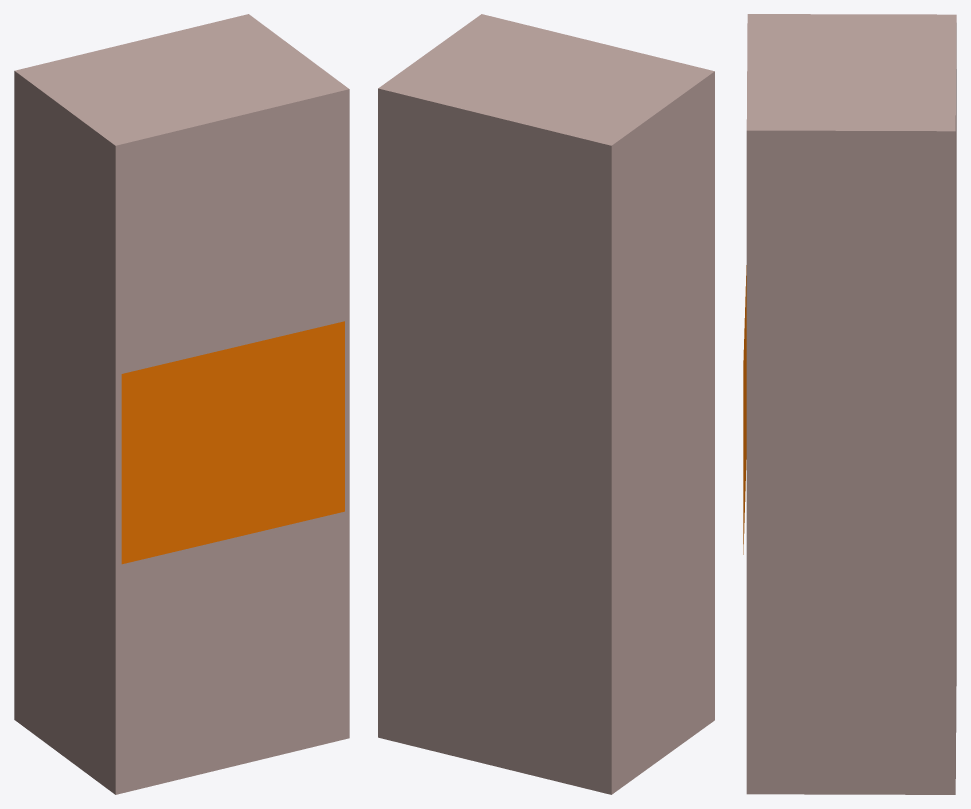
Rendered from shop_012.glb.
3 renders of one model, left to right at view 1: azimuth 30°, elevation 25°; view 2: azimuth 150°, elevation 25°; view 3: azimuth 270°, elevation 25°, orthographic. The views are drawn at different scales.
Parts seen in each view (by area): view 1: shop_012; view 2: shop_012; view 3: shop_012.
Part boxes in pixels (box(x1,y1,x2,y2)): shop_012: box(14, 14, 349, 794); shop_012: box(378, 14, 714, 794); shop_012: box(743, 14, 956, 794).
Bounding box in the file's own units: 0.1024 × 0.2705 × 0.0787.
1 material, 1 textured.
